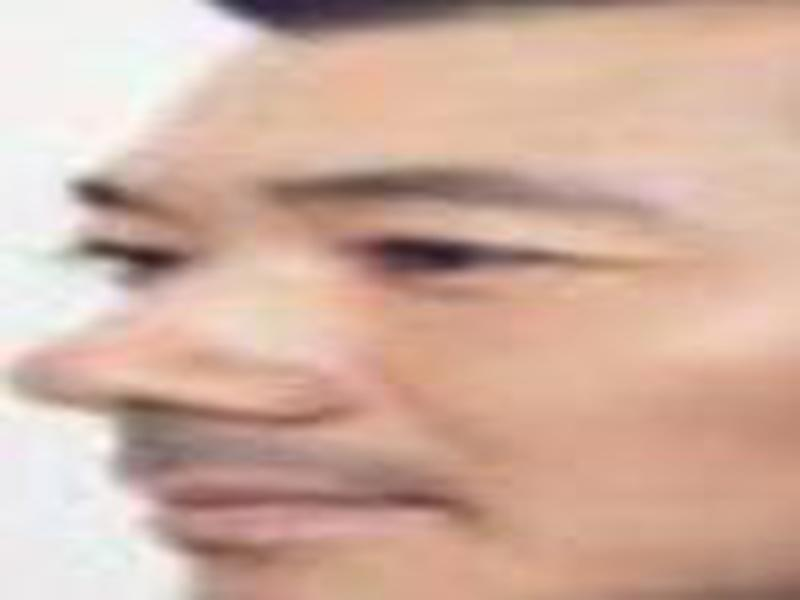without_mask: (8, 10, 800, 600)
